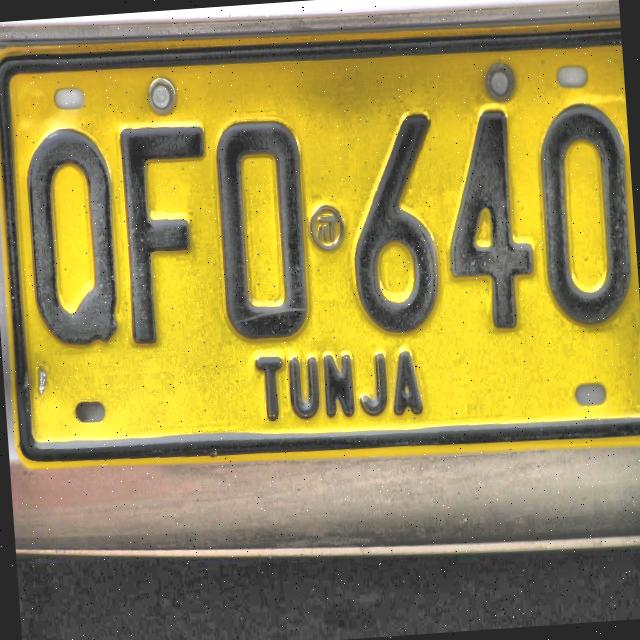plate: (0, 19, 640, 470)
